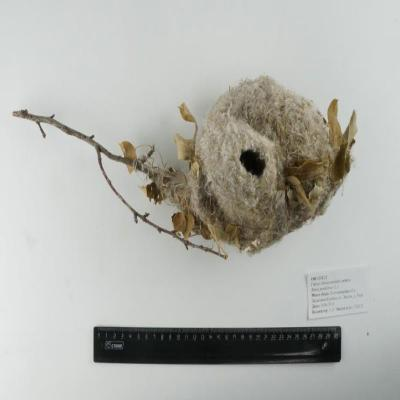natural_science_collection: (171, 76, 358, 258)
